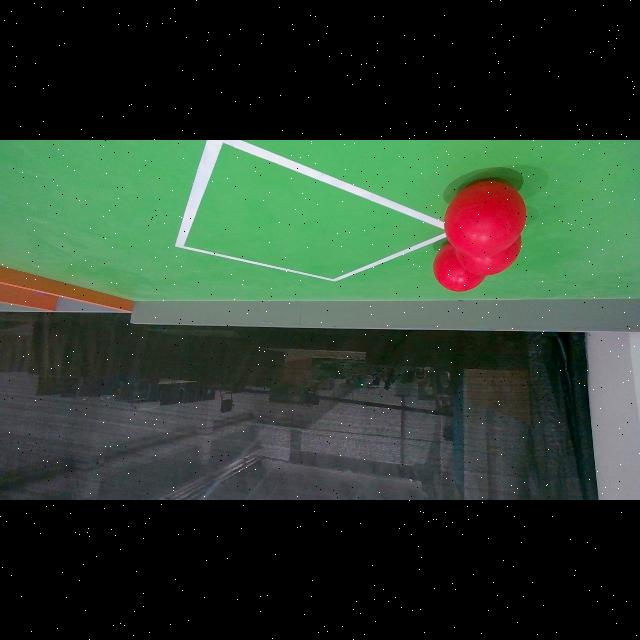R: (444, 181, 526, 257), (451, 227, 522, 276), (429, 239, 495, 291)
